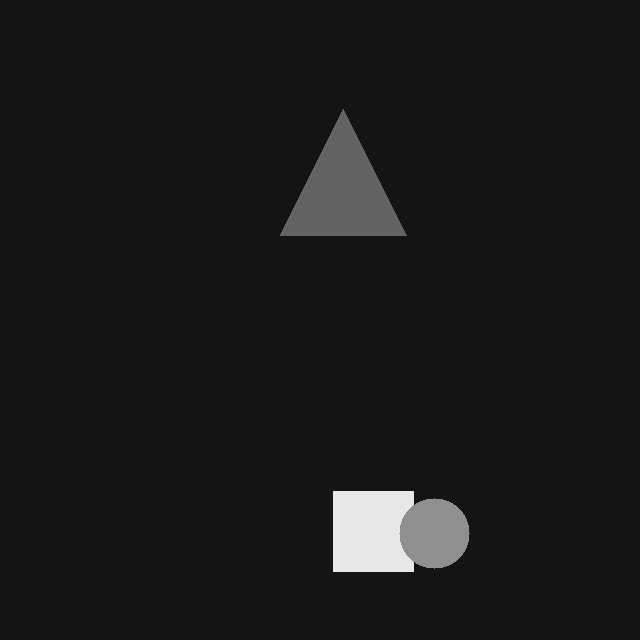circle: (399, 498, 469, 568)
square: (333, 491, 413, 571)
triangle: (280, 109, 406, 235)
